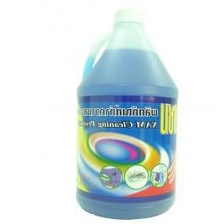cleaning_solution: (71, 8, 180, 222)
